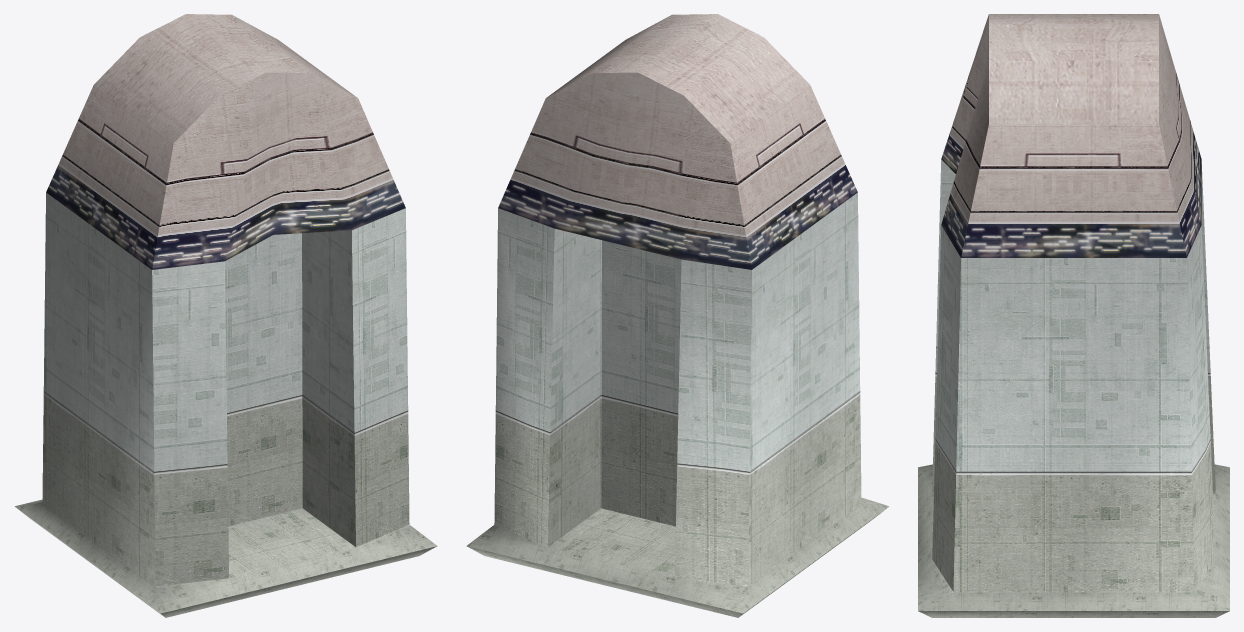
Rendered from bes2_bldg_square_top1.glb.
The picture shows the model from 3 angles, left to right: view 1: azimuth 30°, elevation 25°; view 2: azimuth 150°, elevation 25°; view 3: azimuth 270°, elevation 25°; orthographic projection. The views are drawn at different scales.
Parts seen in each view (by area): view 1: mesh_part2, mesh_part1; view 2: mesh_part2, mesh_part1; view 3: mesh_part2, mesh_part1.
Boxes of the visible parts, <box> form: mesh_part2: <box>14,192,437,617</box>; mesh_part1: <box>46,14,405,269</box>; mesh_part2: <box>466,192,889,617</box>; mesh_part1: <box>498,14,857,269</box>; mesh_part2: <box>918,160,1229,617</box>; mesh_part1: <box>941,14,1201,257</box>.
Size of the model in its own units: 24 by 41 by 22.
2 materials, 2 textured.
